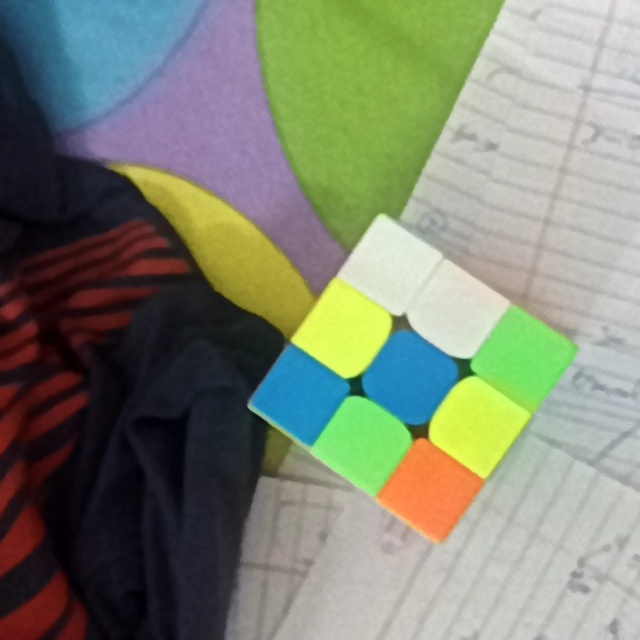tile: (492, 333, 555, 387), (336, 416, 393, 469), (424, 286, 484, 335), (314, 309, 372, 359), (446, 400, 503, 450), (384, 350, 438, 402), (361, 244, 414, 293), (268, 370, 323, 417), (402, 467, 458, 513)
